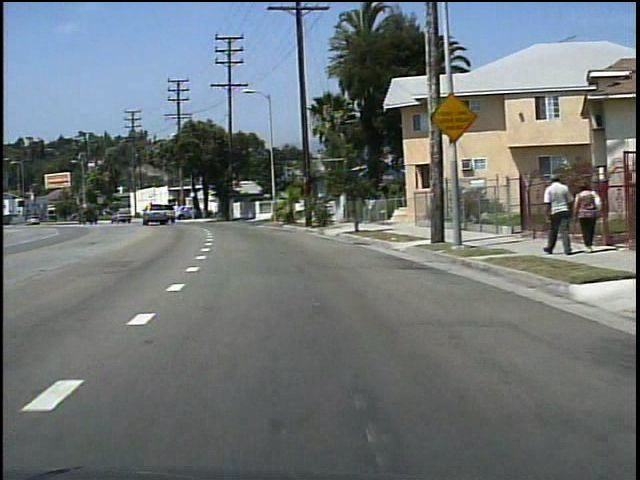person: (533, 171, 568, 257), (567, 179, 600, 253)
